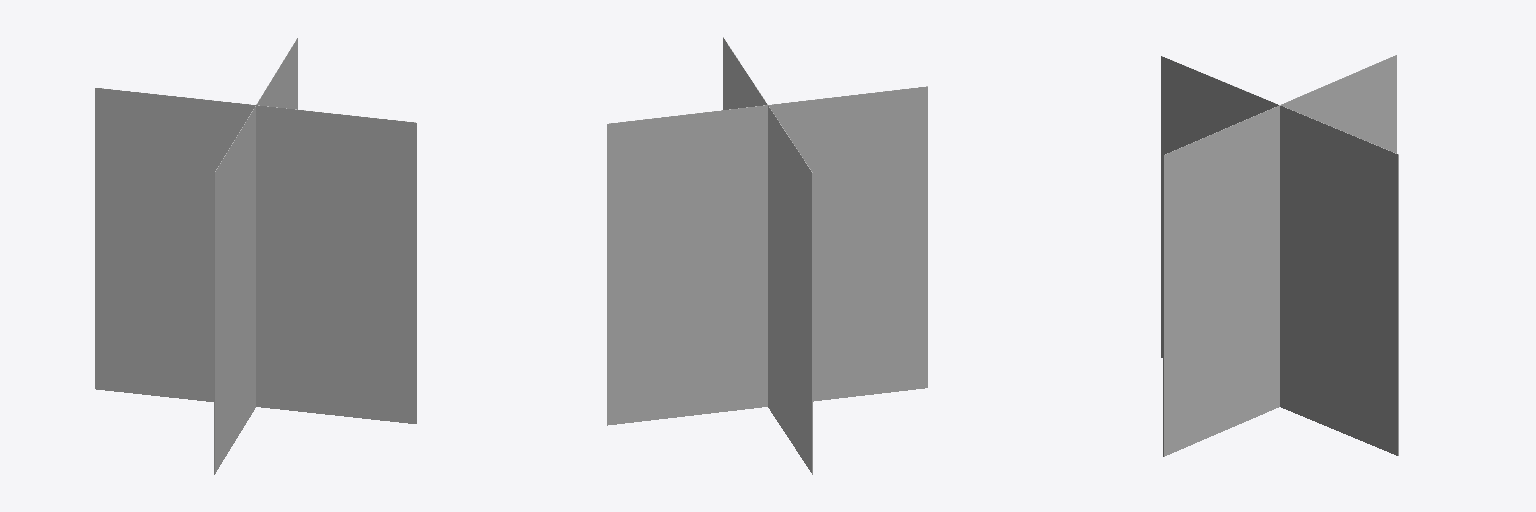
The model's file is cross_billboard.obj.
3 renders of one model, left to right at view 1: azimuth 30°, elevation 25°; view 2: azimuth 150°, elevation 25°; view 3: azimuth 270°, elevation 25°, orthographic.
Bounding box in the file's own units: 0.7147 × 1 × 0.7135.